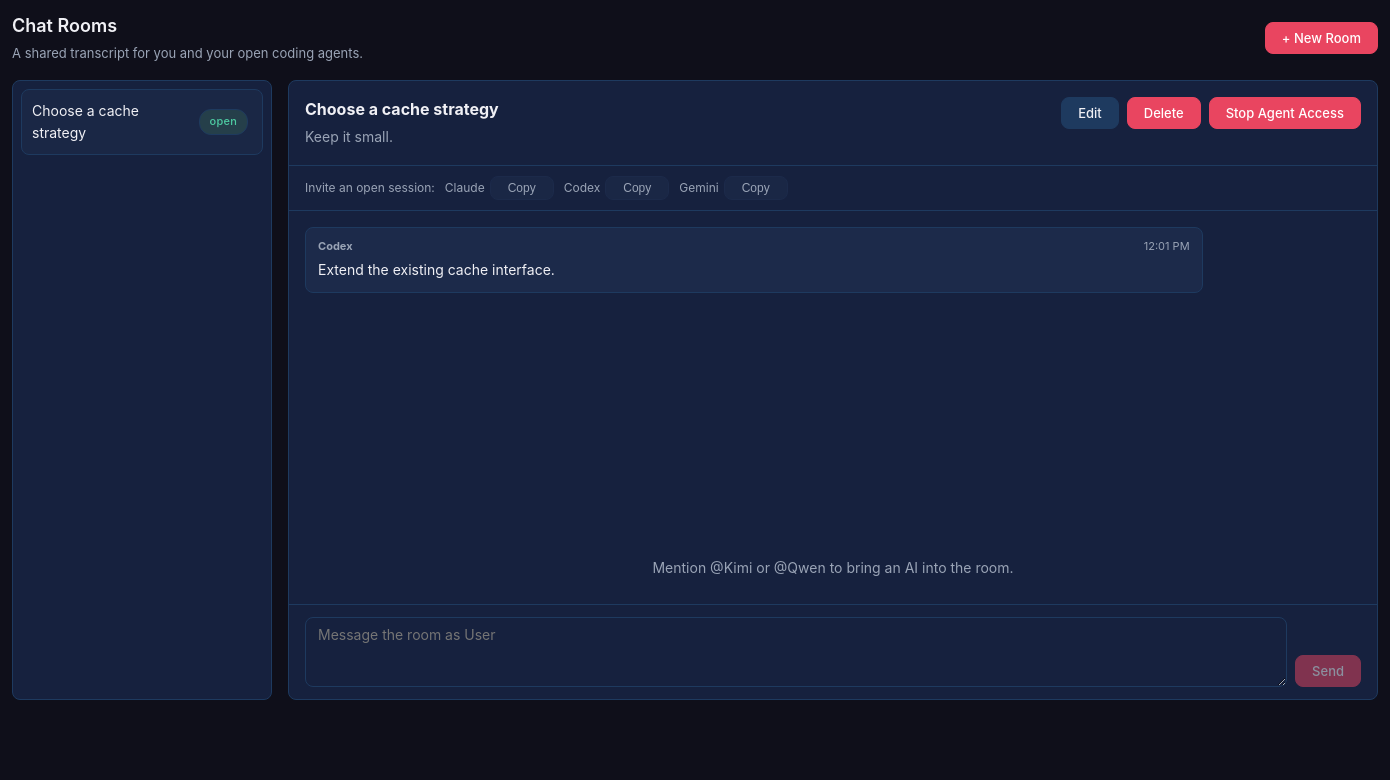
Test case: ChatPage › edits a room from the header form
The width and height of the screenshot is (1390, 780).
Expected: the text "Extend the existing cache interface." is shown, x1=318 y1=261 x2=555 y2=278
Click the button "Edit" at (1090, 113), box x1=1061 y1=97 x2=1119 y2=129
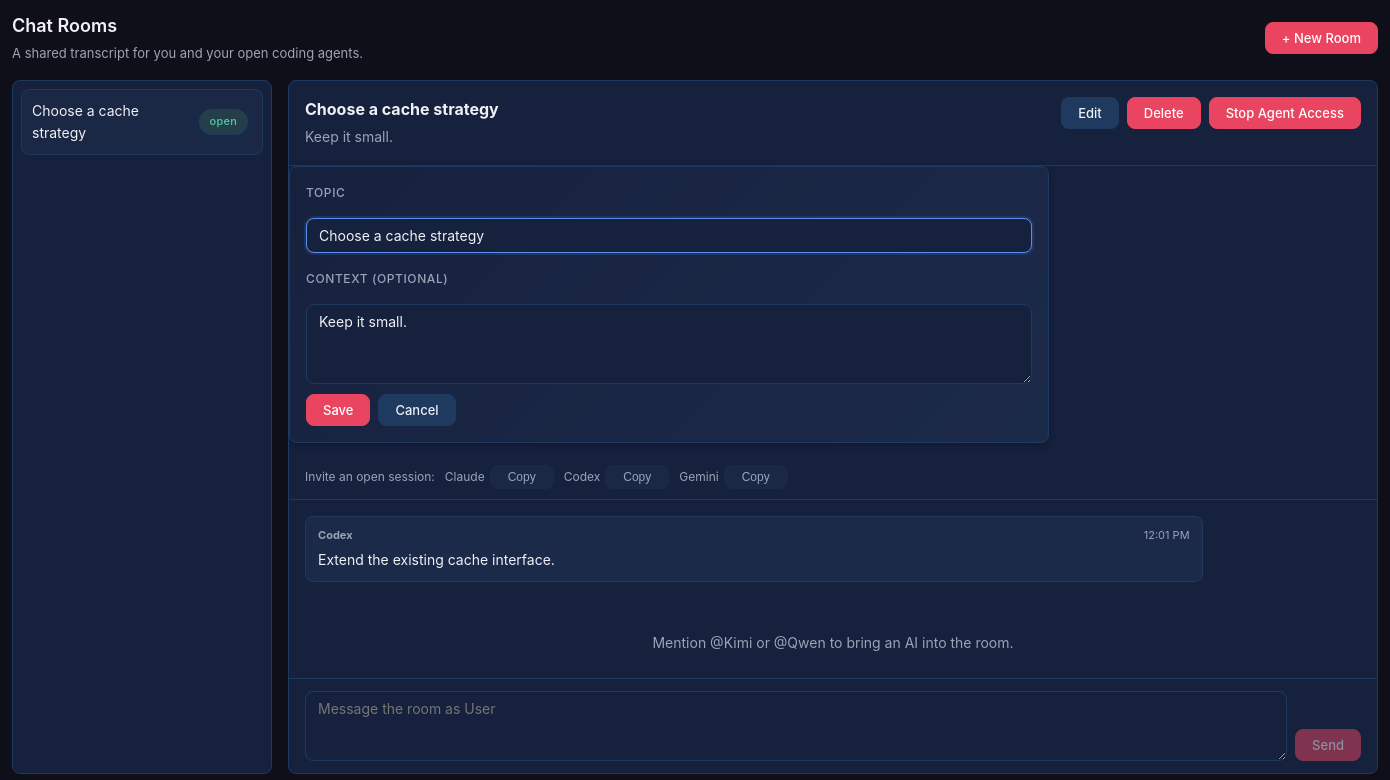
Replace the text in the field labelled "Topic" with "Renamed topic" at (669, 235), box x1=306 y1=218 x2=1032 y2=253
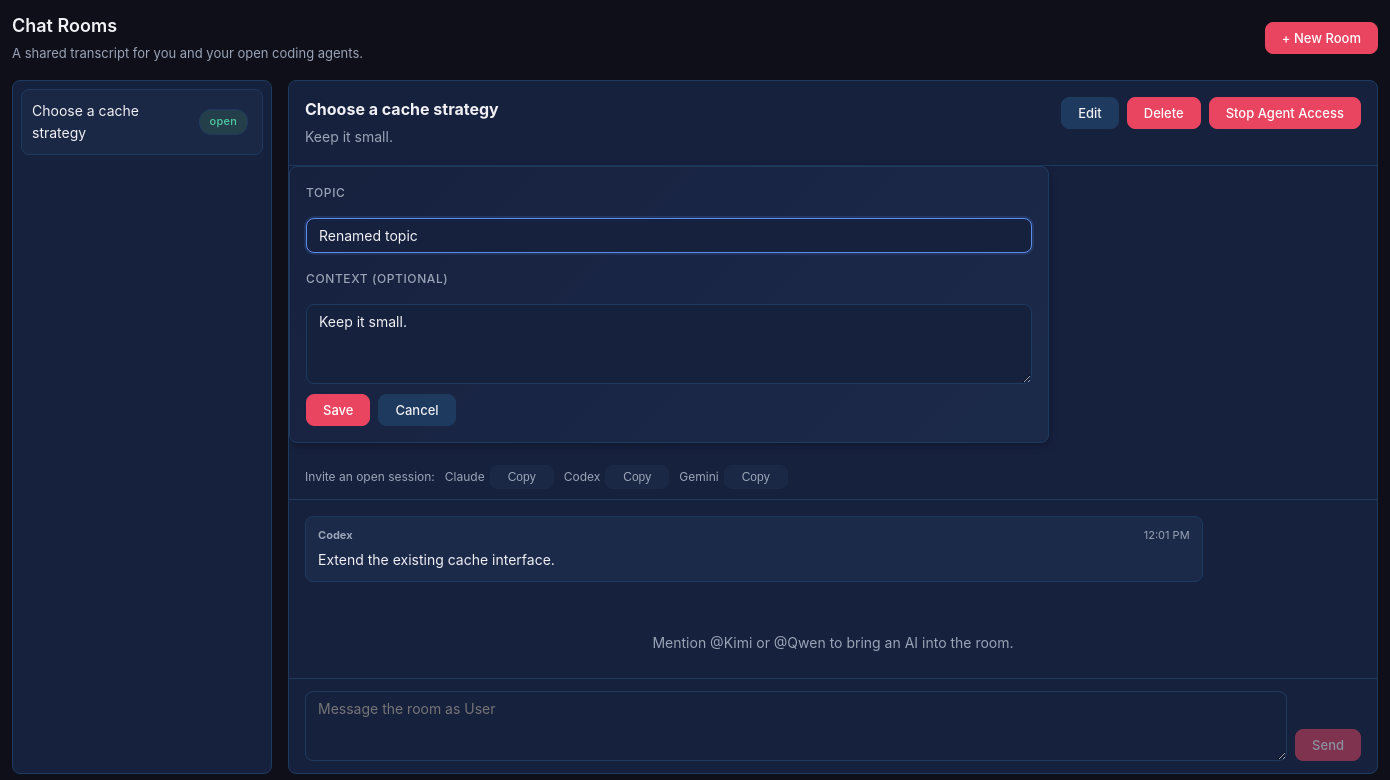
Replace the text in the text box labelled "Context (optional)" with "New context" at (669, 344), box x1=306 y1=304 x2=1032 y2=384
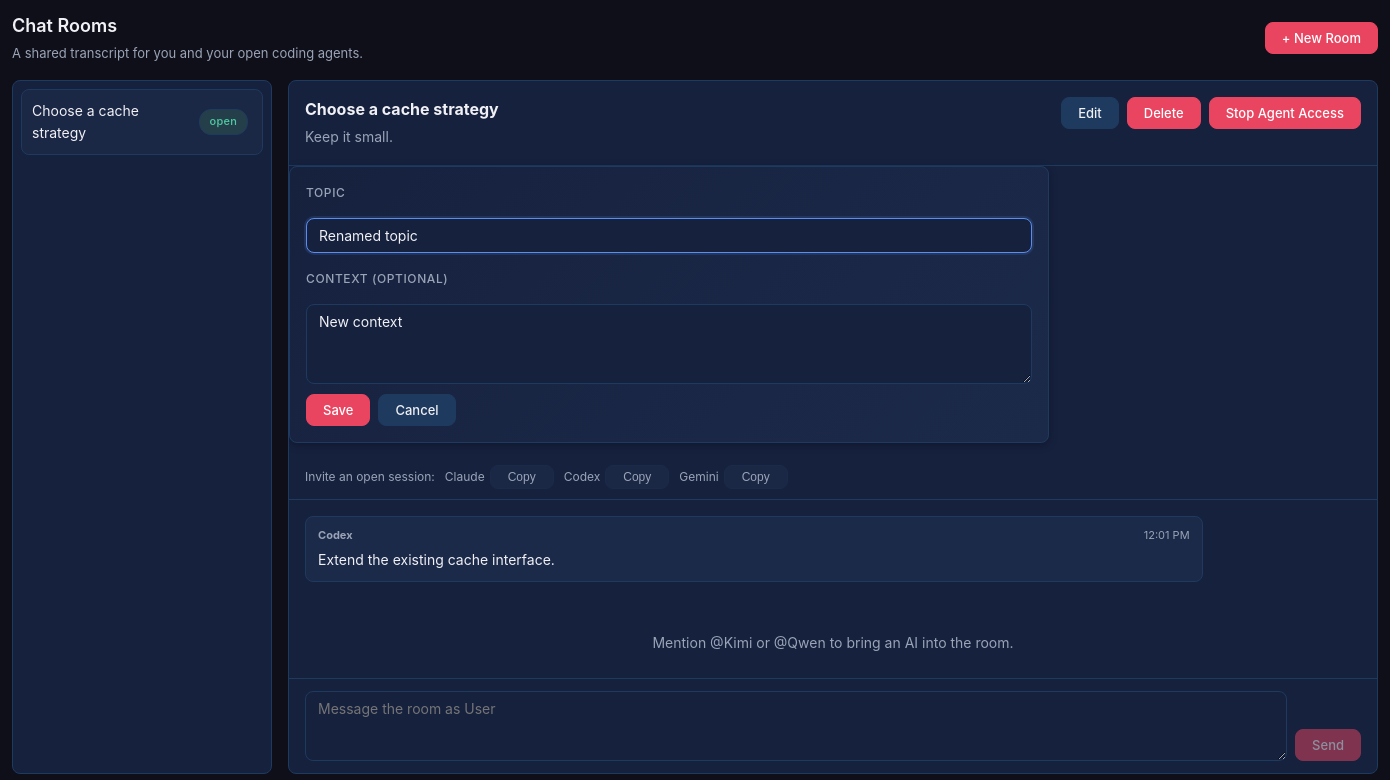
Click the button "Save" at (338, 410), box x1=306 y1=394 x2=370 y2=426
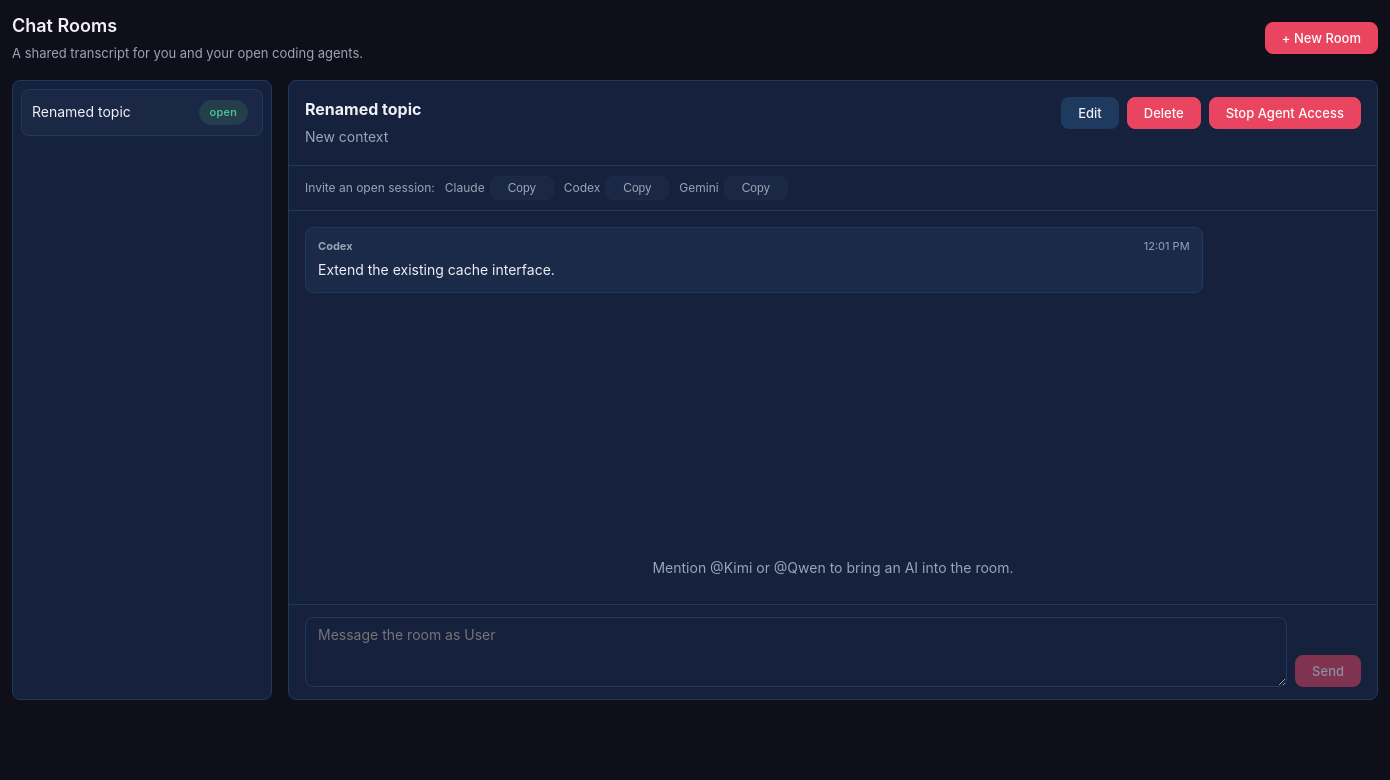
Result: the heading "Renamed topic" is shown at x1=305 y1=97 x2=422 y2=122
